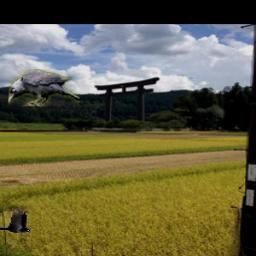Crow: (10, 70, 81, 107), (0, 209, 33, 234)
